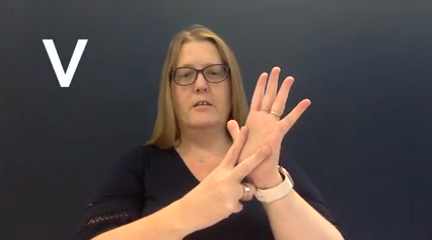V: (190, 59, 316, 232)
